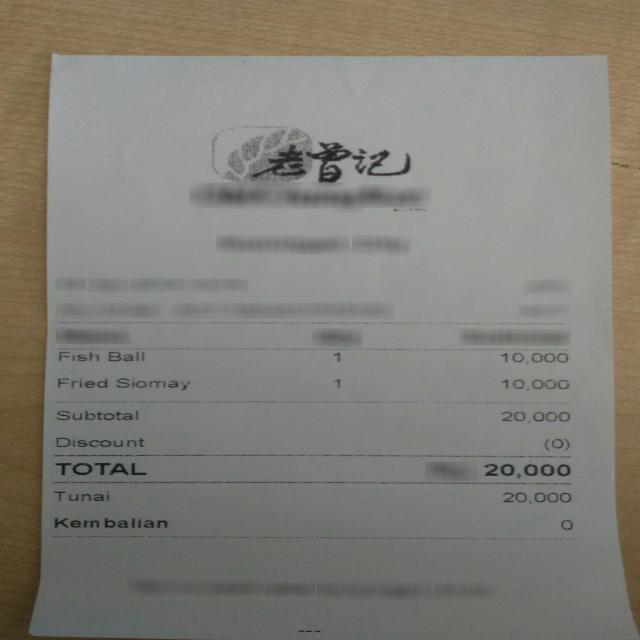kertas: (31, 55, 639, 640)
